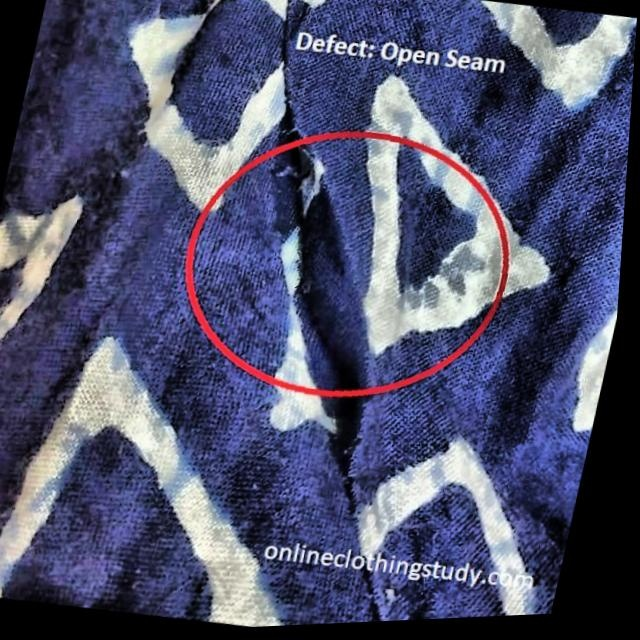seam: (170, 69, 507, 541)
